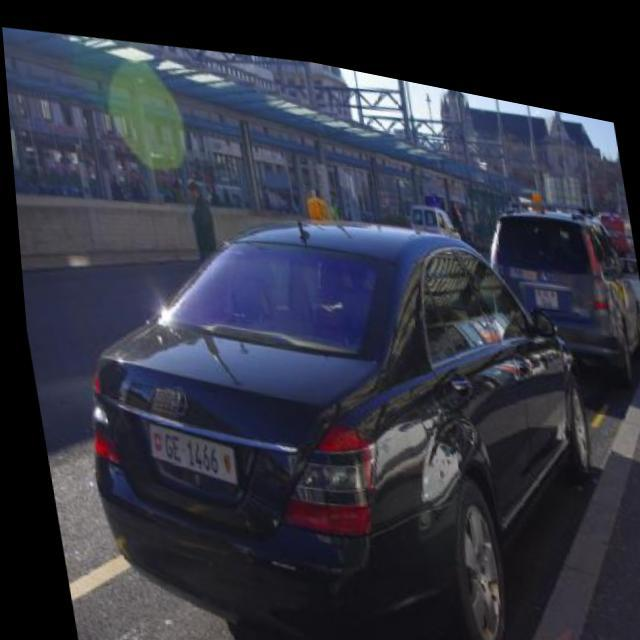license_plate: (139, 410, 232, 484), (528, 261, 556, 289)
